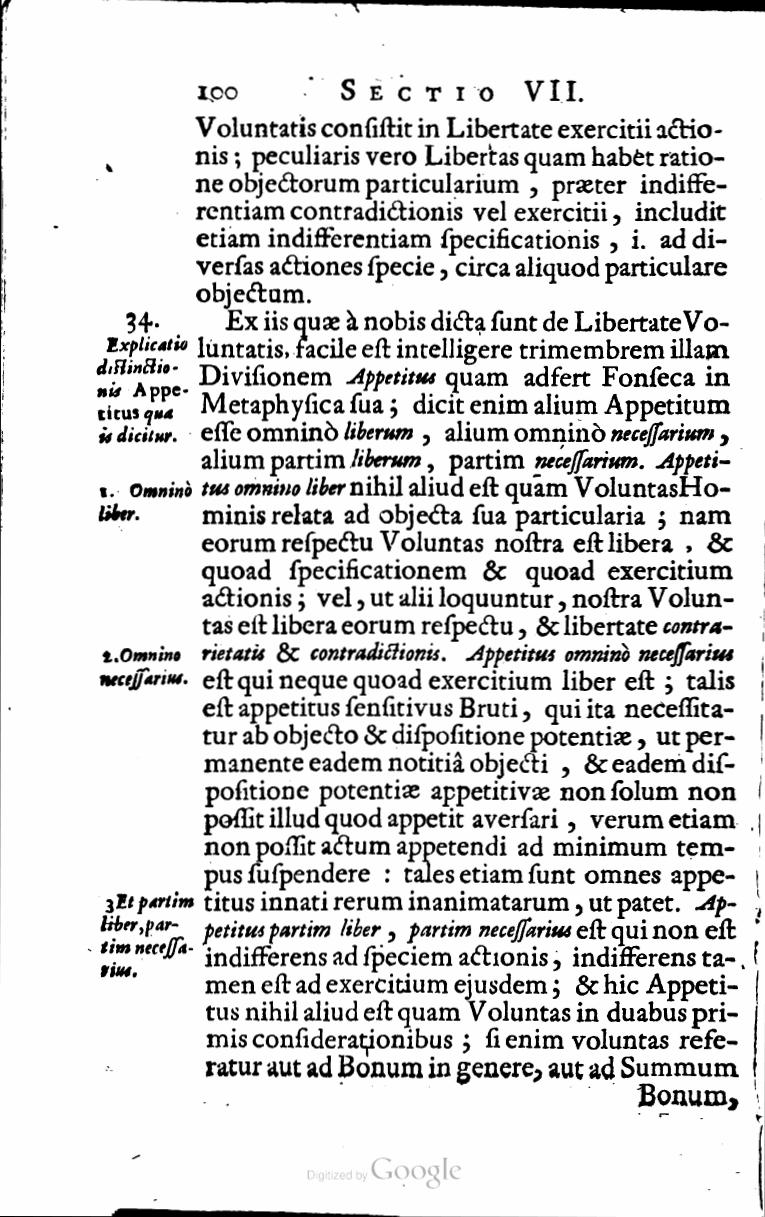bottom_p: (193, 112, 731, 310)
catchword: (637, 1081, 743, 1115)
header: (337, 75, 586, 107)
page_num: (196, 82, 241, 106)
print_marg: (92, 308, 191, 450), (96, 888, 195, 981), (94, 475, 193, 525), (95, 642, 192, 693)
top_p: (195, 309, 741, 1082)
